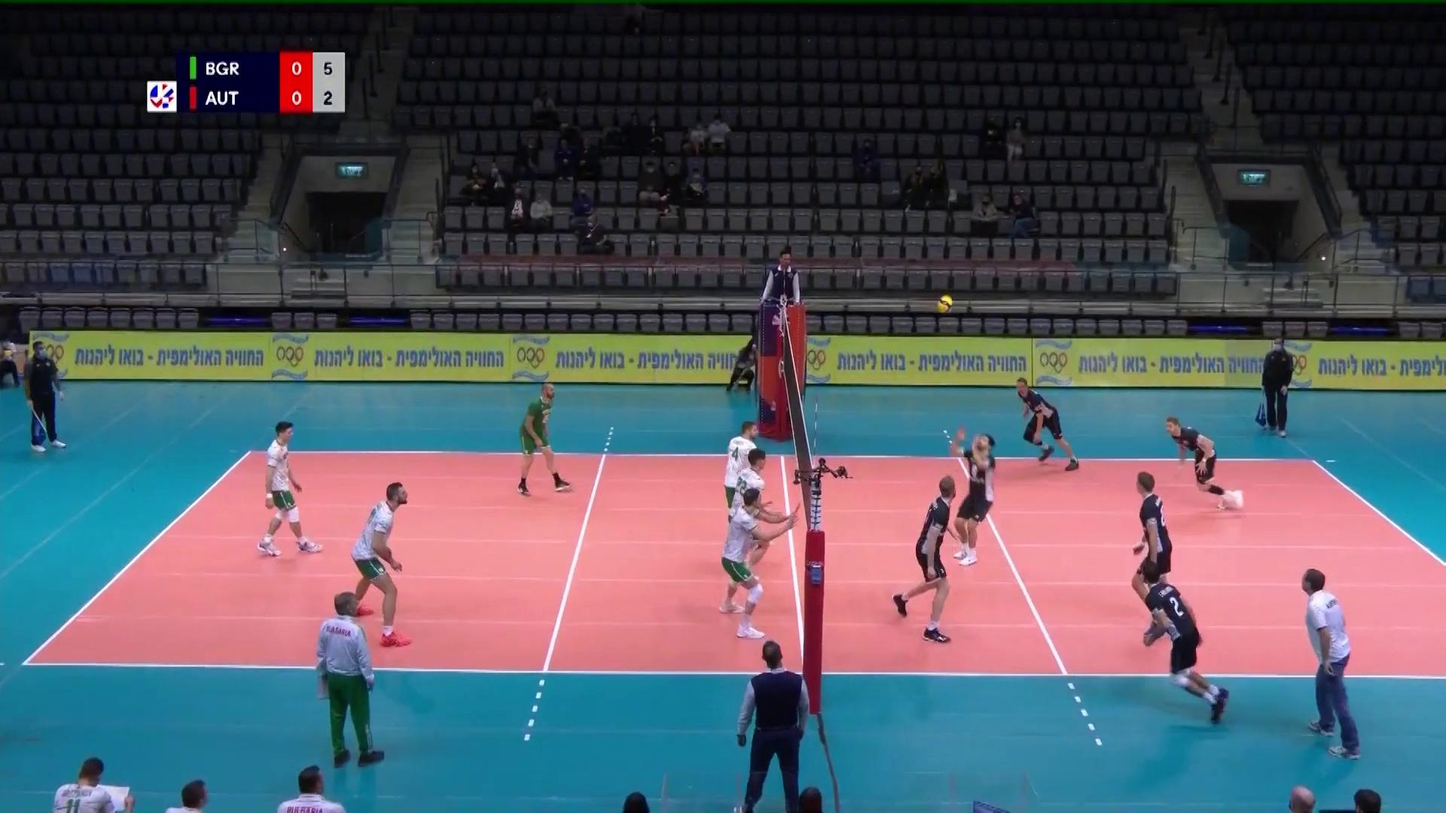ball: (934, 295, 956, 314)
